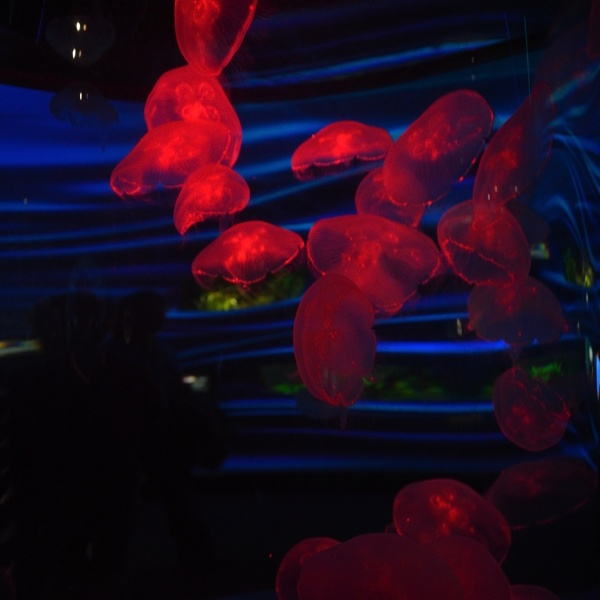Jellyfish: (277, 89, 599, 599), (170, 0, 497, 79), (300, 205, 438, 313), (142, 59, 243, 169), (110, 116, 230, 188), (192, 221, 302, 294), (173, 0, 255, 78), (289, 120, 393, 177), (175, 166, 251, 239)
